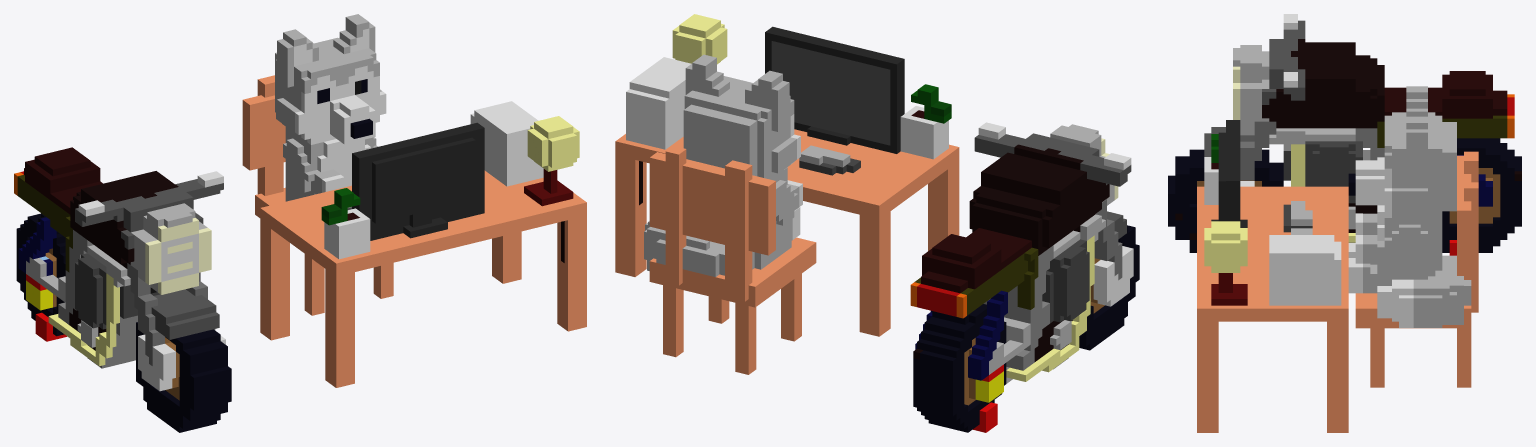
The picture shows the model from 3 angles, left to right: view 1: azimuth 30°, elevation 25°; view 2: azimuth 150°, elevation 25°; view 3: azimuth 270°, elevation 25°; orthographic projection. The views are drawn at different scales.
Parts seen in each view (by area): view 1: Meshy_AI_I_want_to_extract_onl_1217055732_generate, Meshy_AI_I_want_to_get_the_sep_1217052637_generate, Meshy_AI_I_want_you_to_generat_1217052306_generate; view 2: Meshy_AI_I_want_to_get_the_sep_1217052637_generate, Meshy_AI_I_want_to_extract_onl_1217055732_generate, Meshy_AI_I_want_you_to_generat_1217052306_generate; view 3: Meshy_AI_I_want_to_get_the_sep_1217052637_generate, Meshy_AI_I_want_to_extract_onl_1217055732_generate, Meshy_AI_I_want_you_to_generat_1217052306_generate.
Part boxes in pixels (<box>): Meshy_AI_I_want_to_extract_onl_1217055732_generate: <box>260,101,586,387</box>; Meshy_AI_I_want_to_get_the_sep_1217052637_generate: <box>14,147,231,432</box>; Meshy_AI_I_want_you_to_generat_1217052306_generate: <box>242,14,393,315</box>; Meshy_AI_I_want_to_get_the_sep_1217052637_generate: <box>910,122,1139,432</box>; Meshy_AI_I_want_to_extract_onl_1217055732_generate: <box>615,14,959,336</box>; Meshy_AI_I_want_you_to_generat_1217052306_generate: <box>644,54,816,374</box>; Meshy_AI_I_want_to_get_the_sep_1217052637_generate: <box>1168,14,1521,255</box>; Meshy_AI_I_want_to_extract_onl_1217055732_generate: <box>1197,120,1348,432</box>; Meshy_AI_I_want_you_to_generat_1217052306_generate: <box>1348,86,1478,387</box>.
Bounding box in the file's own units: 7.3 × 4 × 4.9.
Materials: 3 (3 with a texture image).
